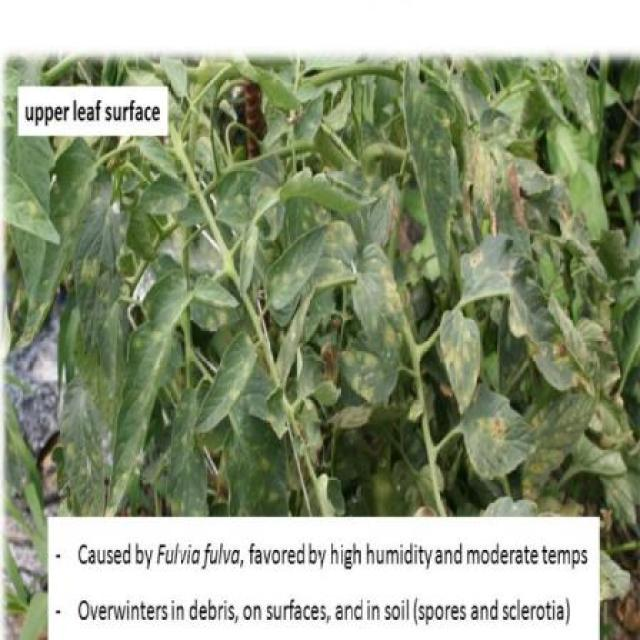Leaf Mold: (460, 240, 590, 390), (104, 272, 184, 514), (395, 68, 454, 289), (518, 392, 598, 492), (462, 383, 538, 484), (73, 191, 117, 363), (192, 329, 258, 441), (351, 240, 404, 360), (264, 222, 330, 309), (440, 306, 481, 416), (215, 164, 265, 229), (137, 176, 194, 216), (188, 273, 242, 310)
